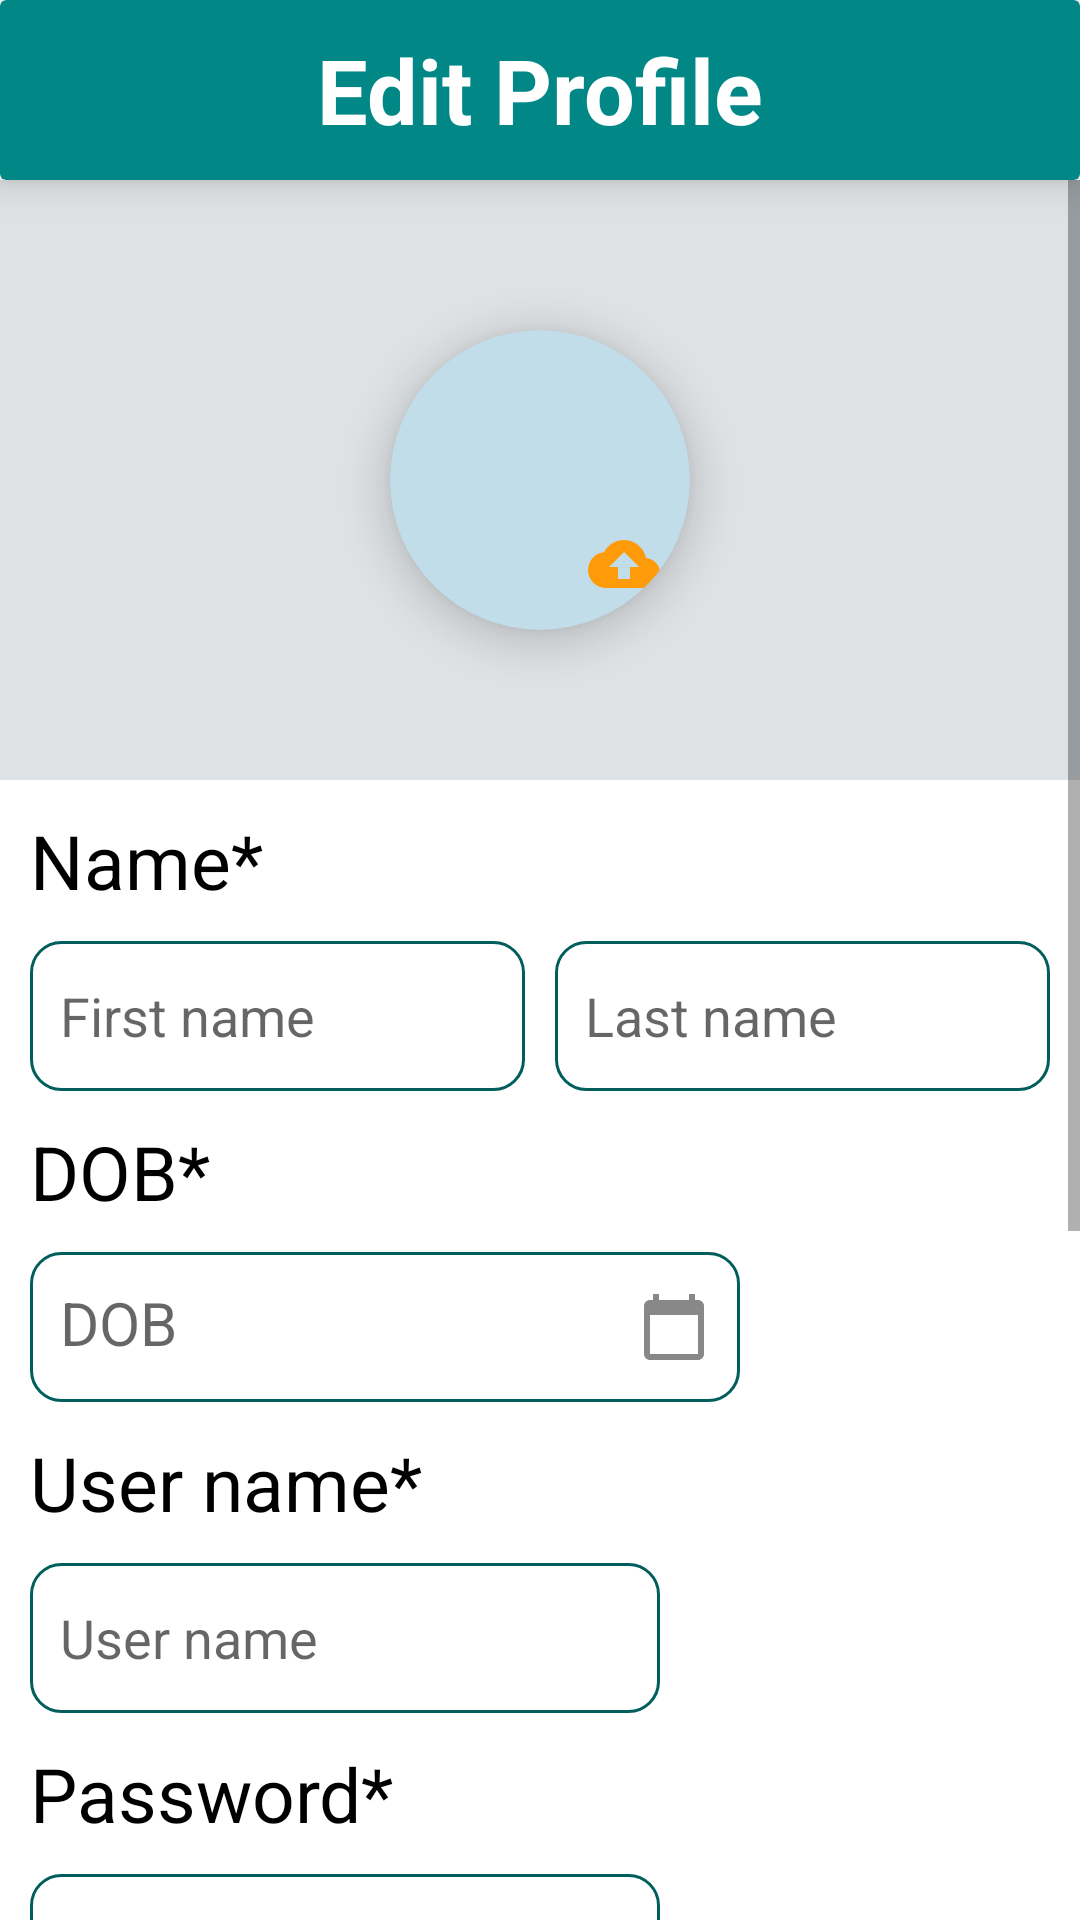

Where to tap for icons on this 1080 × 1920 app screen, as [x,y]:
cloud upload: [624,570]
